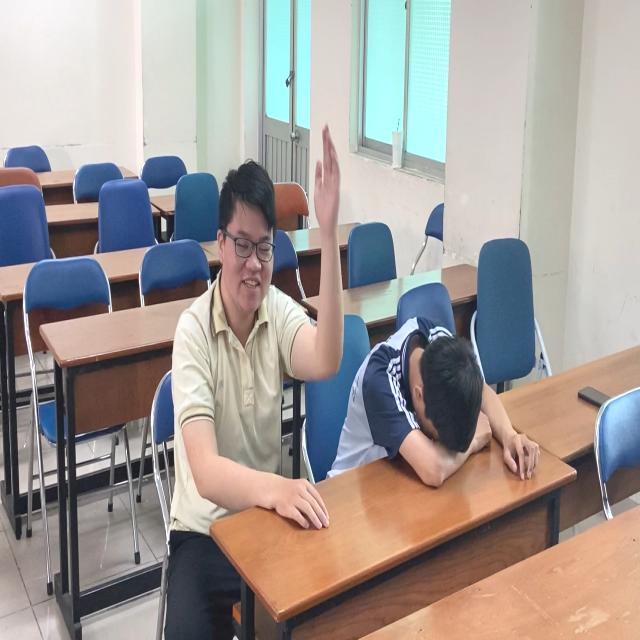raise_hand: (169, 109, 360, 514)
sleep: (330, 312, 547, 505)
